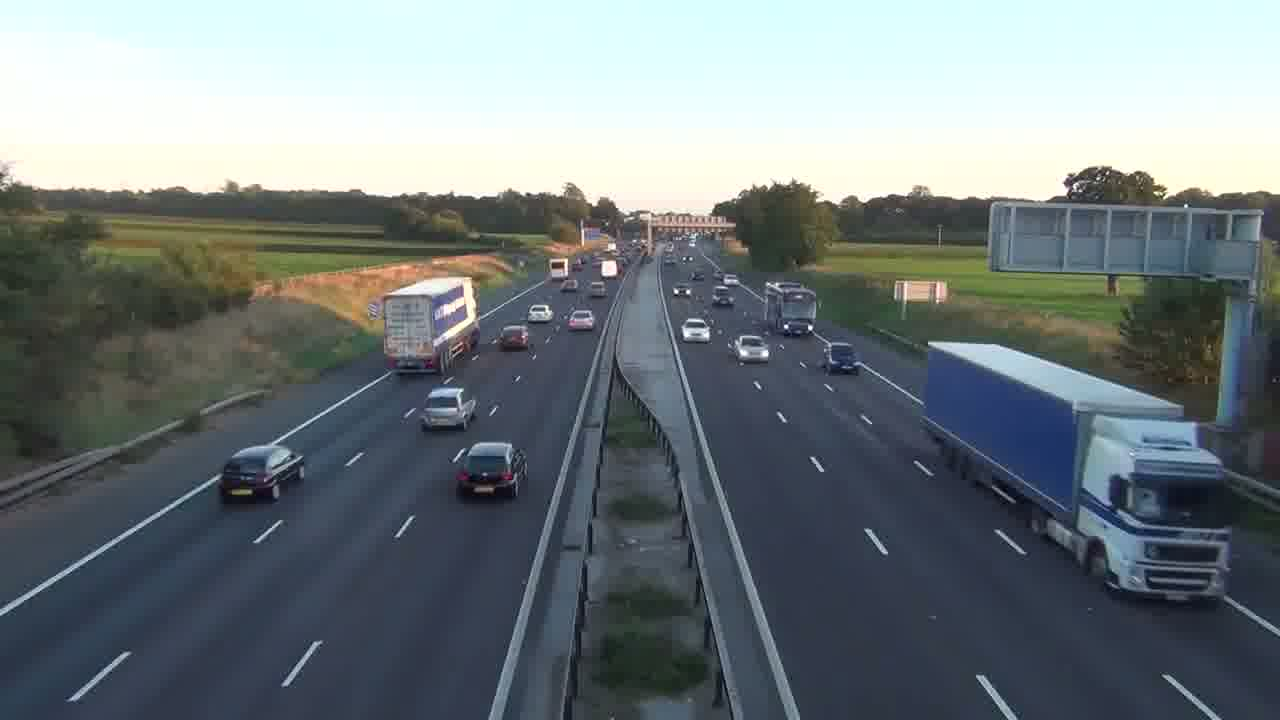bus: (383, 276, 480, 374)
car: (218, 444, 305, 504), (452, 440, 528, 499), (420, 385, 478, 431), (820, 340, 857, 375), (732, 334, 770, 365), (496, 325, 530, 351), (681, 317, 711, 342), (566, 307, 594, 332), (527, 304, 554, 323)
truck: (919, 340, 1235, 607), (218, 444, 305, 504)
